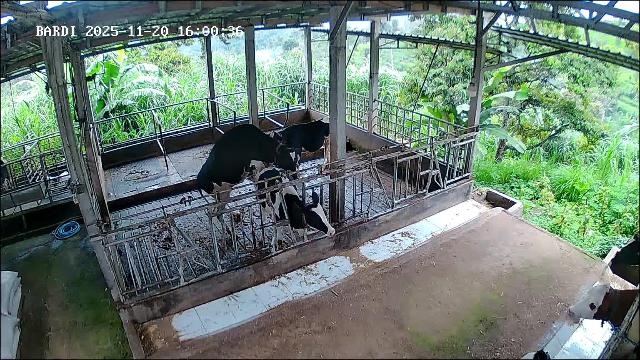mounting: (196, 124, 299, 239)
